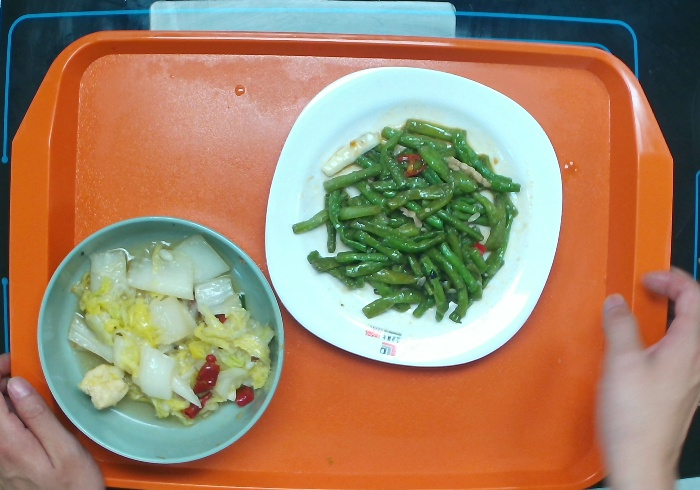ZNLD-Qing_Hua_Yuan_Wan: (35, 214, 286, 468)
ZNLD-Yuan_Jiao_Pan: (263, 66, 565, 370)
